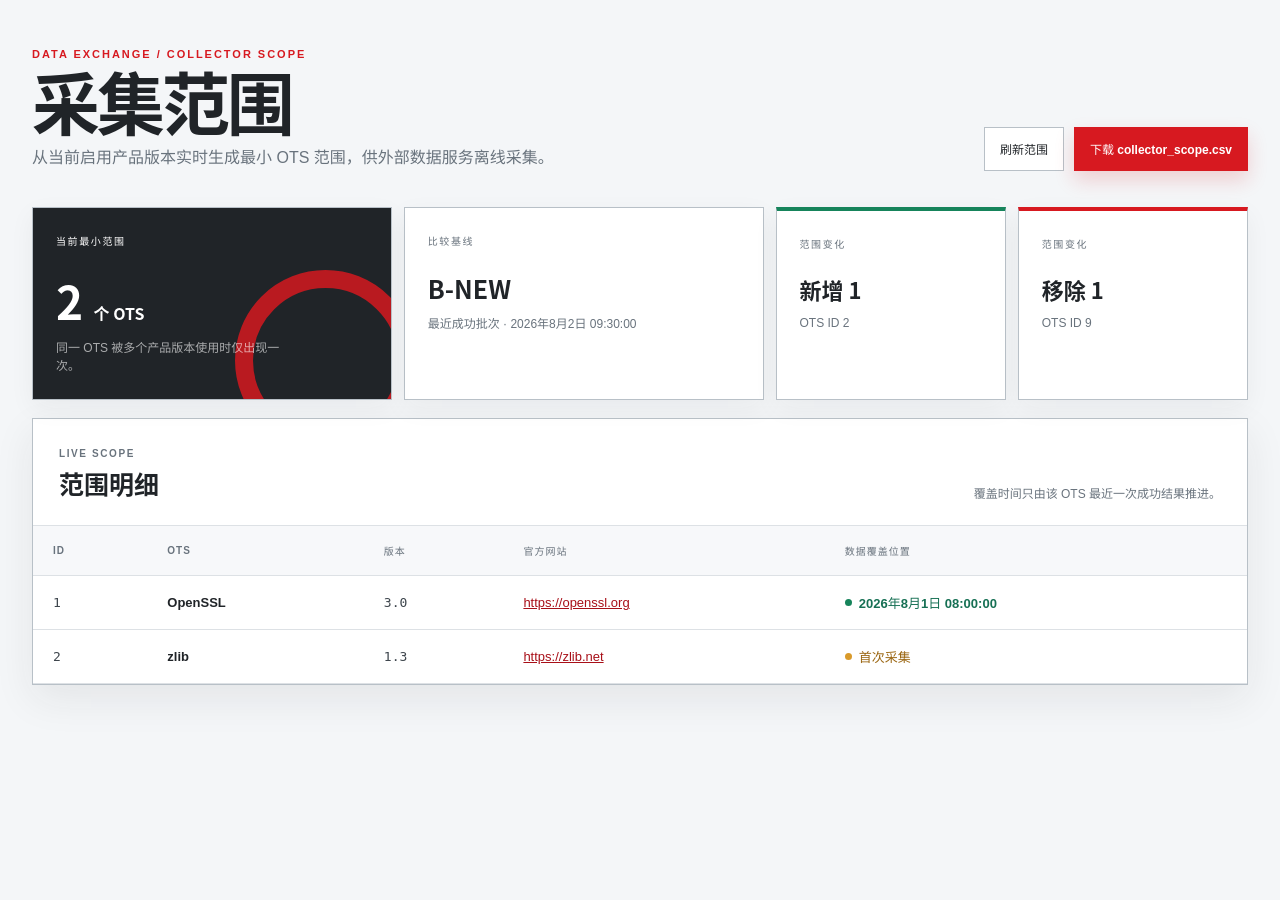
Test case: CollectorScopePage › prevents duplicate downloads and refreshes after success
Click the button "下载 collector_scope.csv" at x=1161, y=149, box x1=1074 y1=127 x2=1248 y2=171
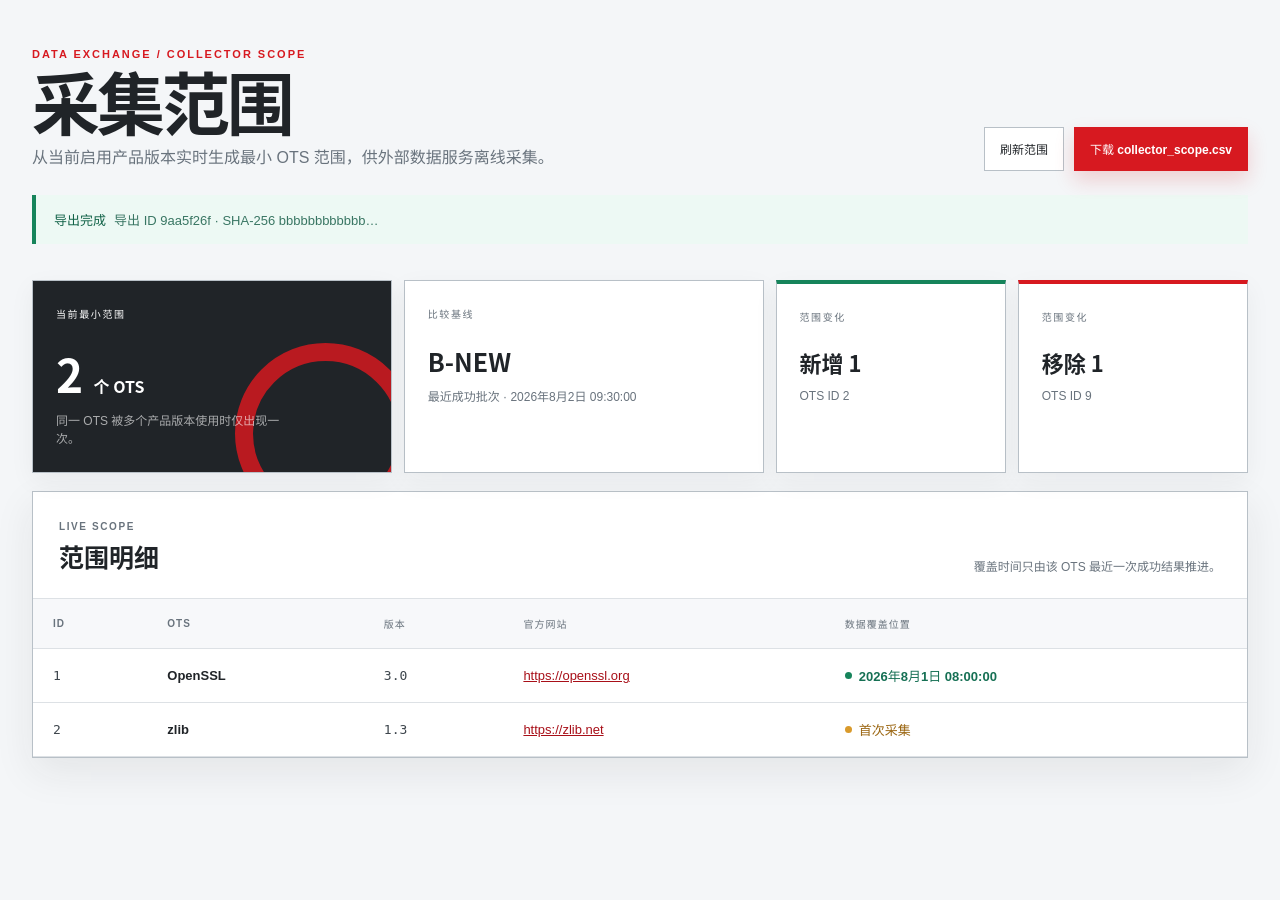
Expected: the text "9aa5f26f" is shown, x1=114 y1=213 x2=378 y2=228
Expected: the text "bbbbbbbbbbbb" is shown, x1=114 y1=213 x2=378 y2=228
